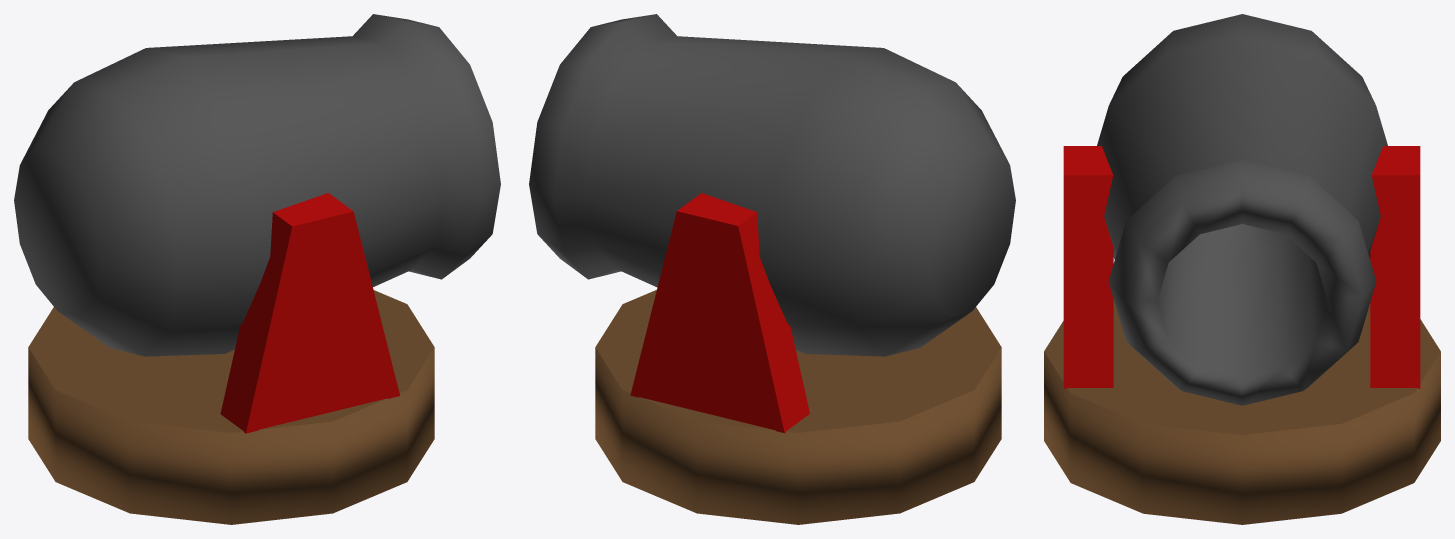
Rendered from CannonTower.fbx.
3 renders of one model, left to right at view 1: azimuth 30°, elevation 25°; view 2: azimuth 150°, elevation 25°; view 3: azimuth 270°, elevation 25°, orthographic. The views are drawn at different scales.
Parts seen in each view (by area): view 1: Cylinder.001, Cylinder, Cube.001; view 2: Cylinder.001, Cylinder, Cube.001; view 3: Cylinder.001, Cylinder, Cube.001.
Part boxes in pixels (x1,y1,x2,y2): Cylinder.001: [14, 14, 500, 356]; Cylinder: [28, 290, 434, 524]; Cube.001: [220, 193, 399, 433]; Cylinder.001: [529, 14, 1015, 356]; Cylinder: [595, 290, 1001, 524]; Cube.001: [630, 193, 809, 433]; Cylinder.001: [1097, 14, 1387, 405]; Cylinder: [1044, 300, 1440, 524]; Cube.001: [1063, 146, 1420, 388].
Size of the model in its own units: 224 by 213 by 200.
